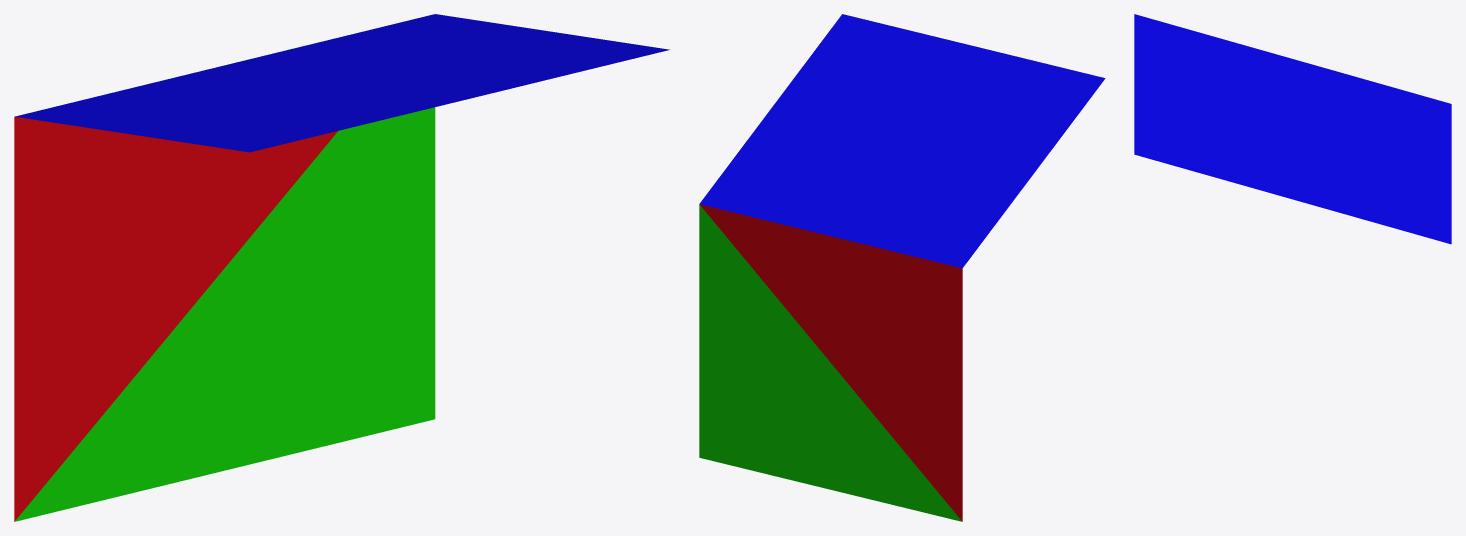
Rendered from green_red_blue_square.glb.
3 views of the same model, side by side, from view 1: azimuth 30°, elevation 25°; view 2: azimuth 150°, elevation 25°; view 3: azimuth 270°, elevation 25° (orthographic). The views are drawn at different scales.
Visible parts, largest first — view 1: rect; view 2: rect; view 3: rect.
Part boxes in pixels (box(x1,y1,x2,y2)): rect: box(14, 14, 669, 521); rect: box(699, 14, 1105, 521); rect: box(1134, 14, 1451, 244).
Bounding box in the file's own units: 19.34 × 23.46 × 18.31.
